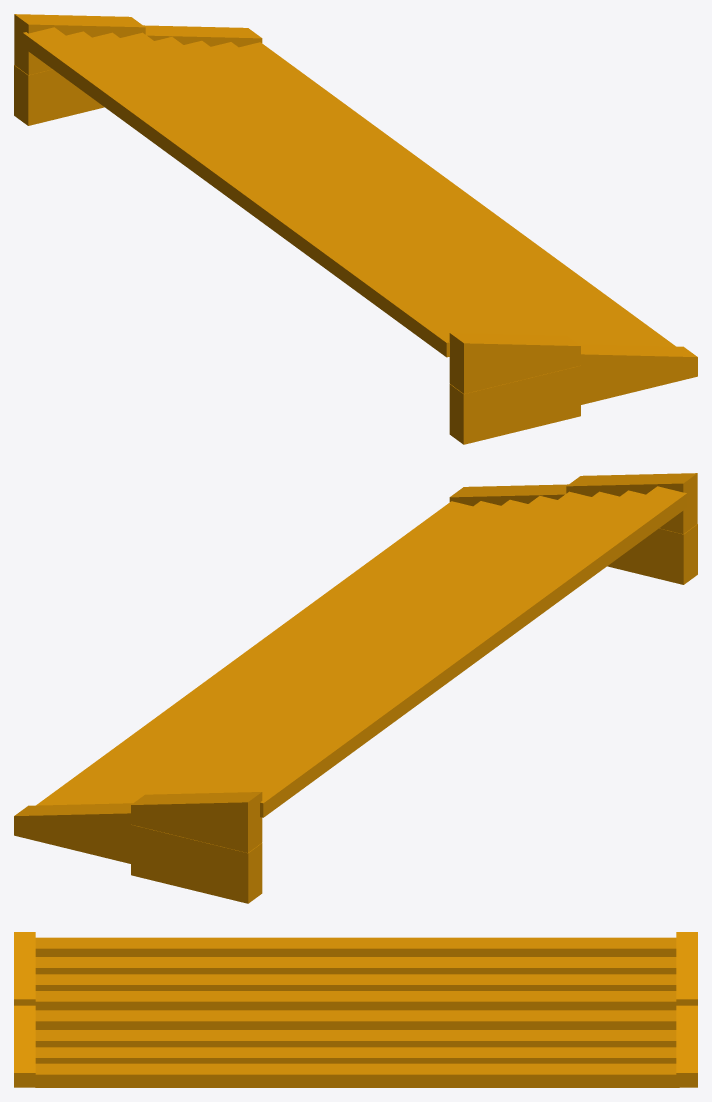
File: Stairs_02_Lod1.fbx
3 views of the same model, one above another, from view 1: azimuth 30°, elevation 25°; view 2: azimuth 150°, elevation 25°; view 3: azimuth 270°, elevation 25° (orthographic). The views are drawn at different scales.
Visible parts, largest first — view 1: Stairs_02_Lod1; view 2: Stairs_02_Lod1; view 3: Stairs_02_Lod1.
Boxes of the visible parts, x1=… form: Stairs_02_Lod1: x1=14, y1=14, x2=697, y2=444; Stairs_02_Lod1: x1=14, y1=473, x2=697, y2=903; Stairs_02_Lod1: x1=14, y1=932, x2=697, y2=1087.
Size of the model in its own units: 974 by 398 by 3198.
